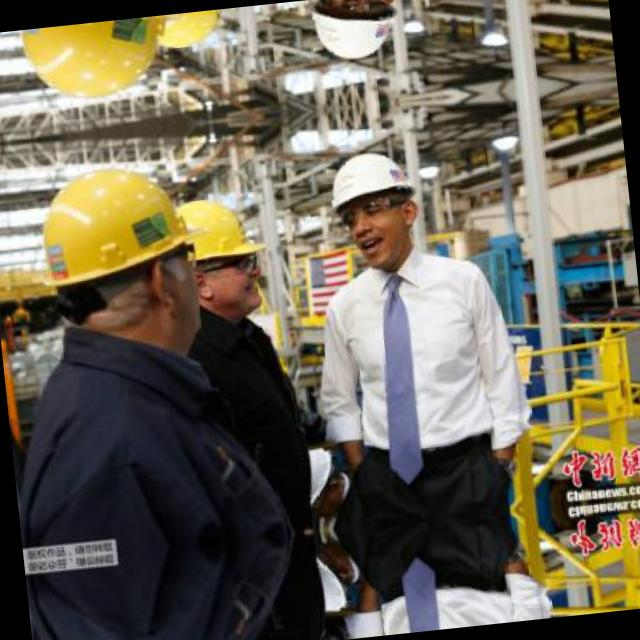helmet: (17, 142, 231, 360), (4, 11, 208, 122), (143, 174, 275, 325), (307, 134, 434, 264), (291, 0, 415, 78), (124, 7, 250, 72)
